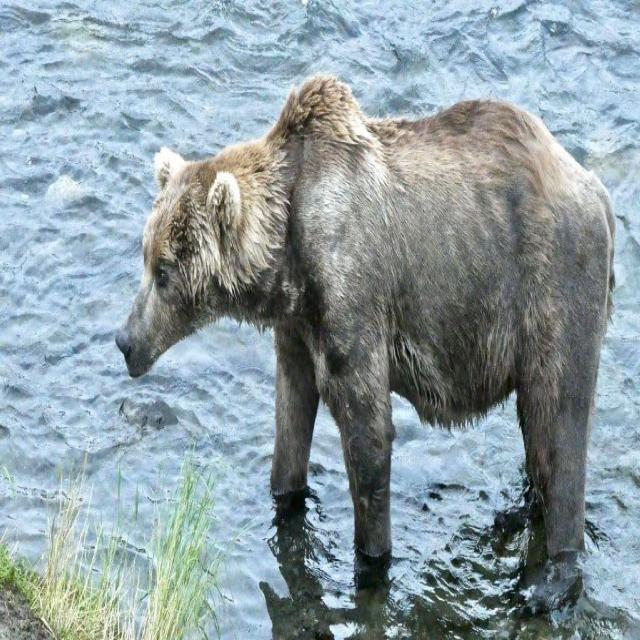Bear: (113, 74, 618, 628)
